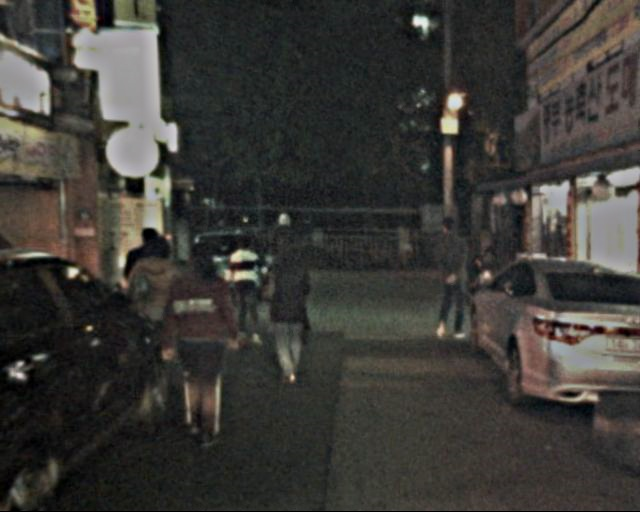person: (163, 238, 246, 443), (259, 233, 319, 389), (127, 226, 184, 367), (429, 213, 477, 346), (222, 234, 273, 352), (261, 206, 304, 311)
